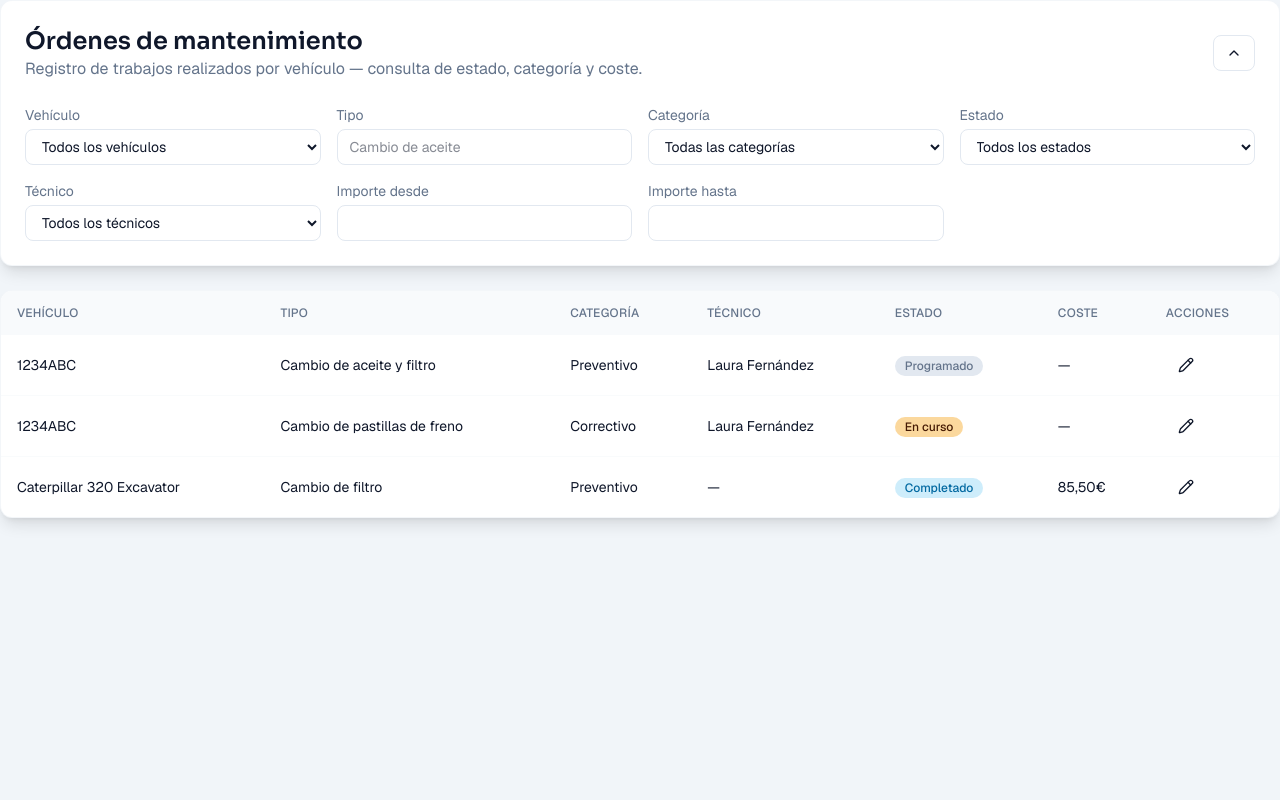
MaintenanceOrders › edits the cost of a maintenance order and reflects it in the table
Click the button named "editar orden" in the row of "Cambio de aceite y filtro": [1186, 365] box [1166,347,1206,383]
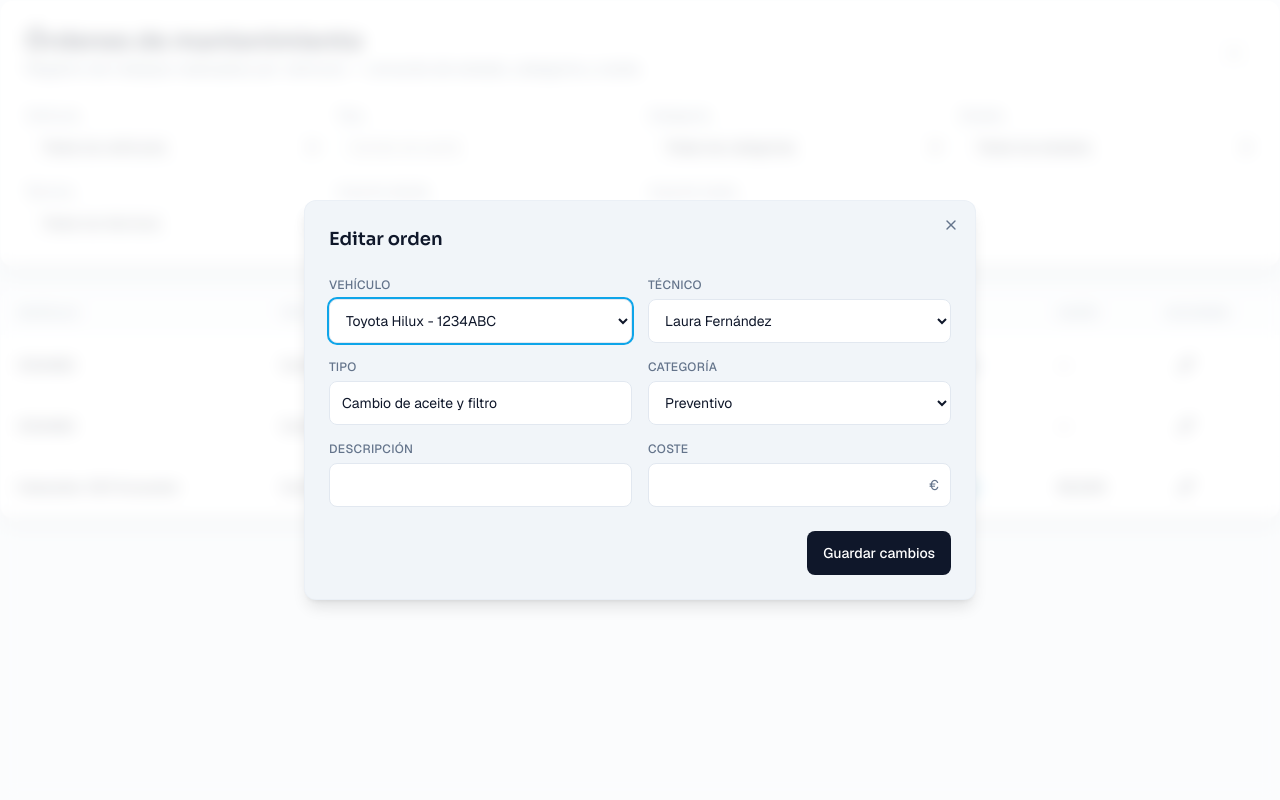
Check: the heading "Editar orden" is shown, box [329,228,443,250]
Check: the number field labelled "Coste" is not empty
In the number field labelled "Coste": [800, 485] box [648,463,951,507], type "120.50"
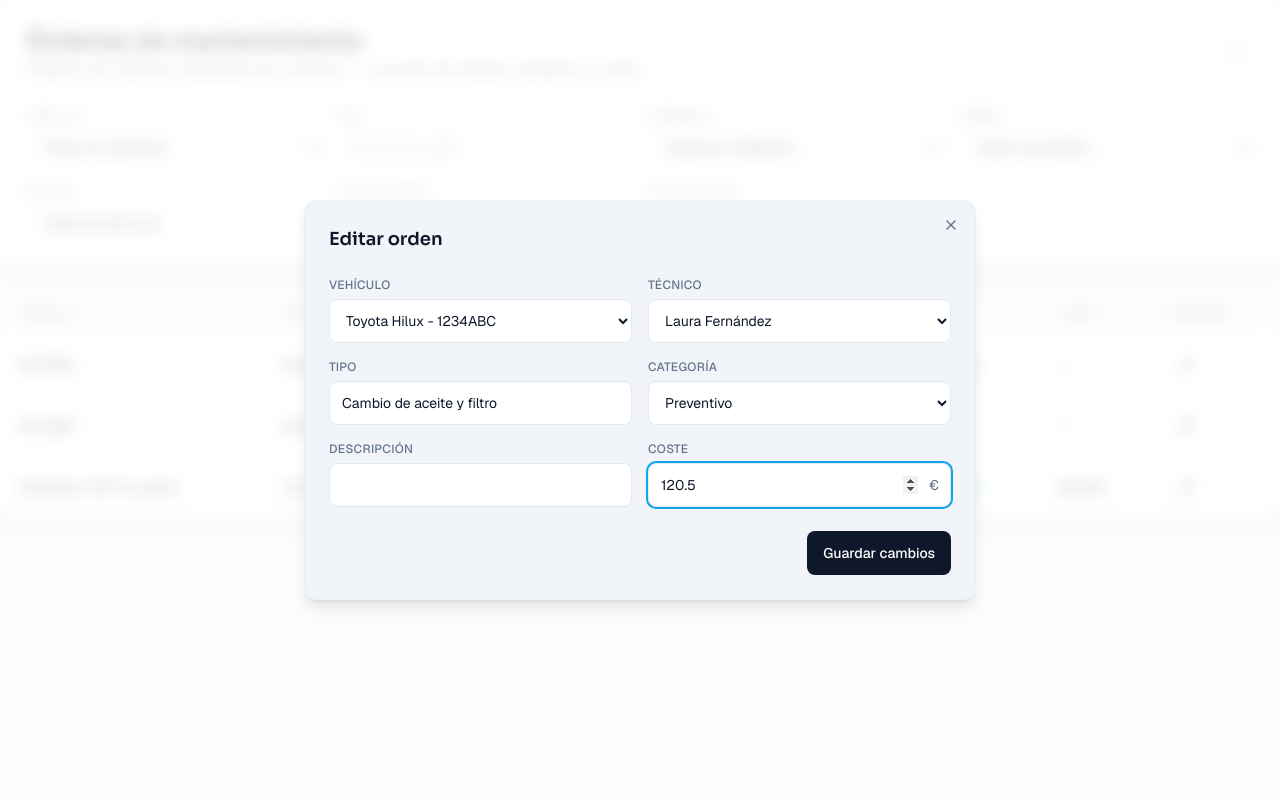
Click the button "Guardar cambios": [879, 553] box [807,531,951,575]
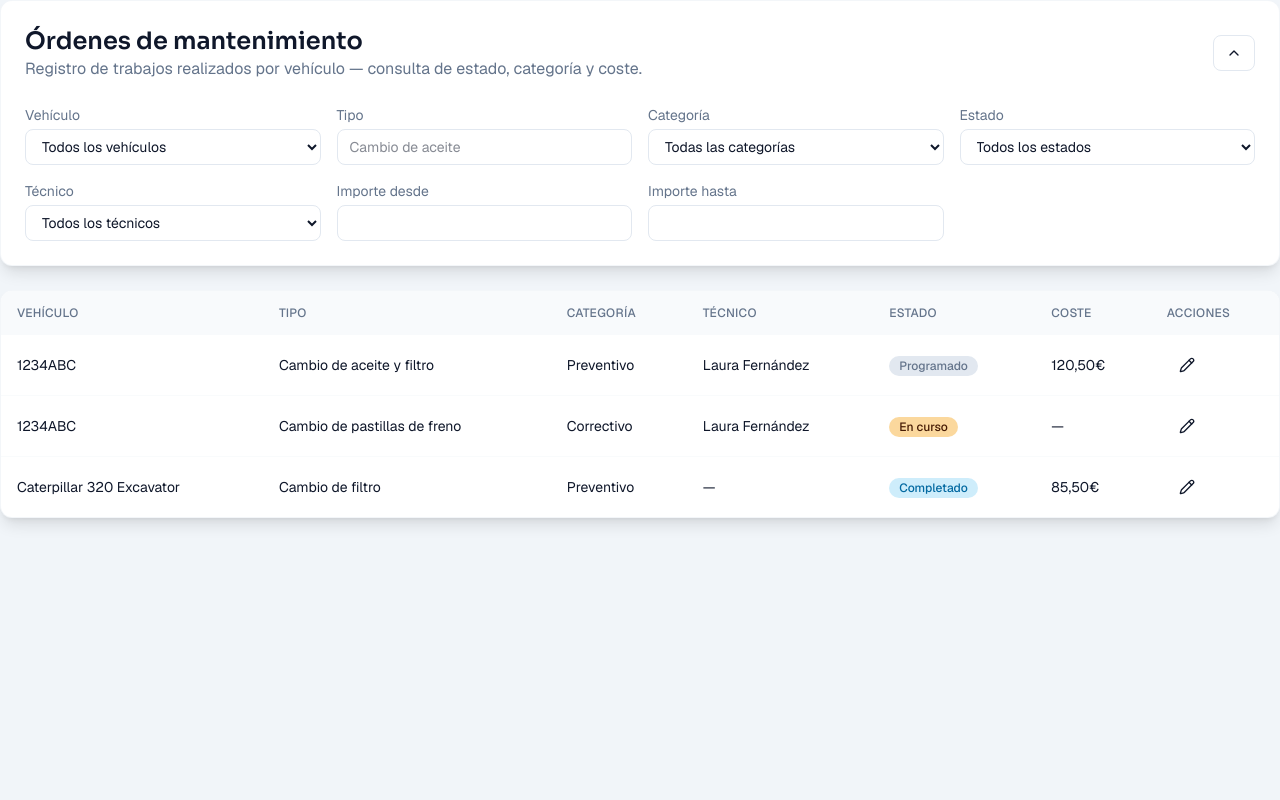
Check: the heading "Editar orden" is gone
Check: the text "120,50€" is shown, box [1035,335,1151,396]
